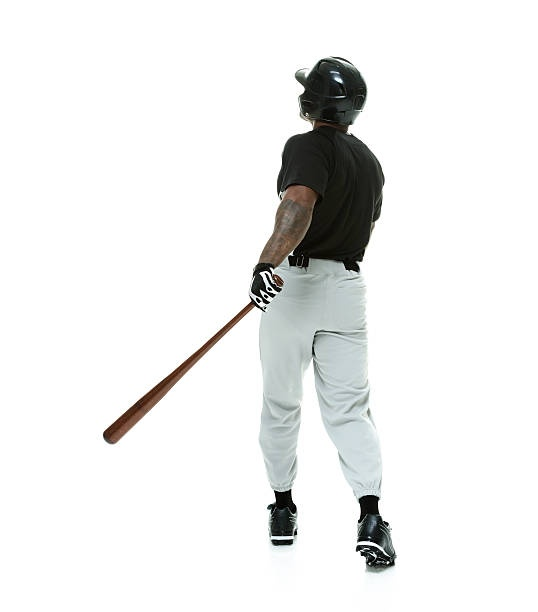bita: (98, 270, 285, 450)
